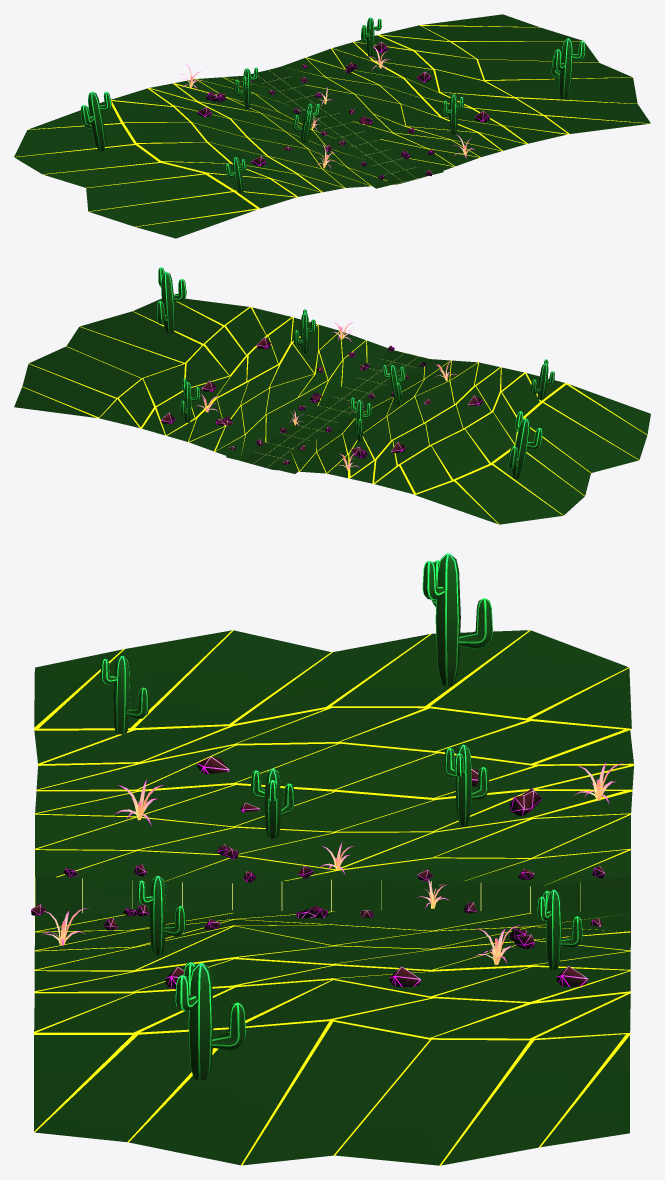
File: Terrain_Desert_1.fbx
3 renders of one model, top to bottom at view 1: azimuth 30°, elevation 25°; view 2: azimuth 150°, elevation 25°; view 3: azimuth 270°, elevation 25°, orthographic. The views are drawn at different scales.
Visible parts, largest first — view 1: Terrain_Desert_1; view 2: Terrain_Desert_1; view 3: Terrain_Desert_1.
Part boxes in pixels (bbox=[...]): Terrain_Desert_1: bbox=[14, 14, 650, 238]; Terrain_Desert_1: bbox=[14, 267, 650, 524]; Terrain_Desert_1: bbox=[31, 553, 633, 1165].
Size of the model in its own units: 9752 by 1184 by 4655.
